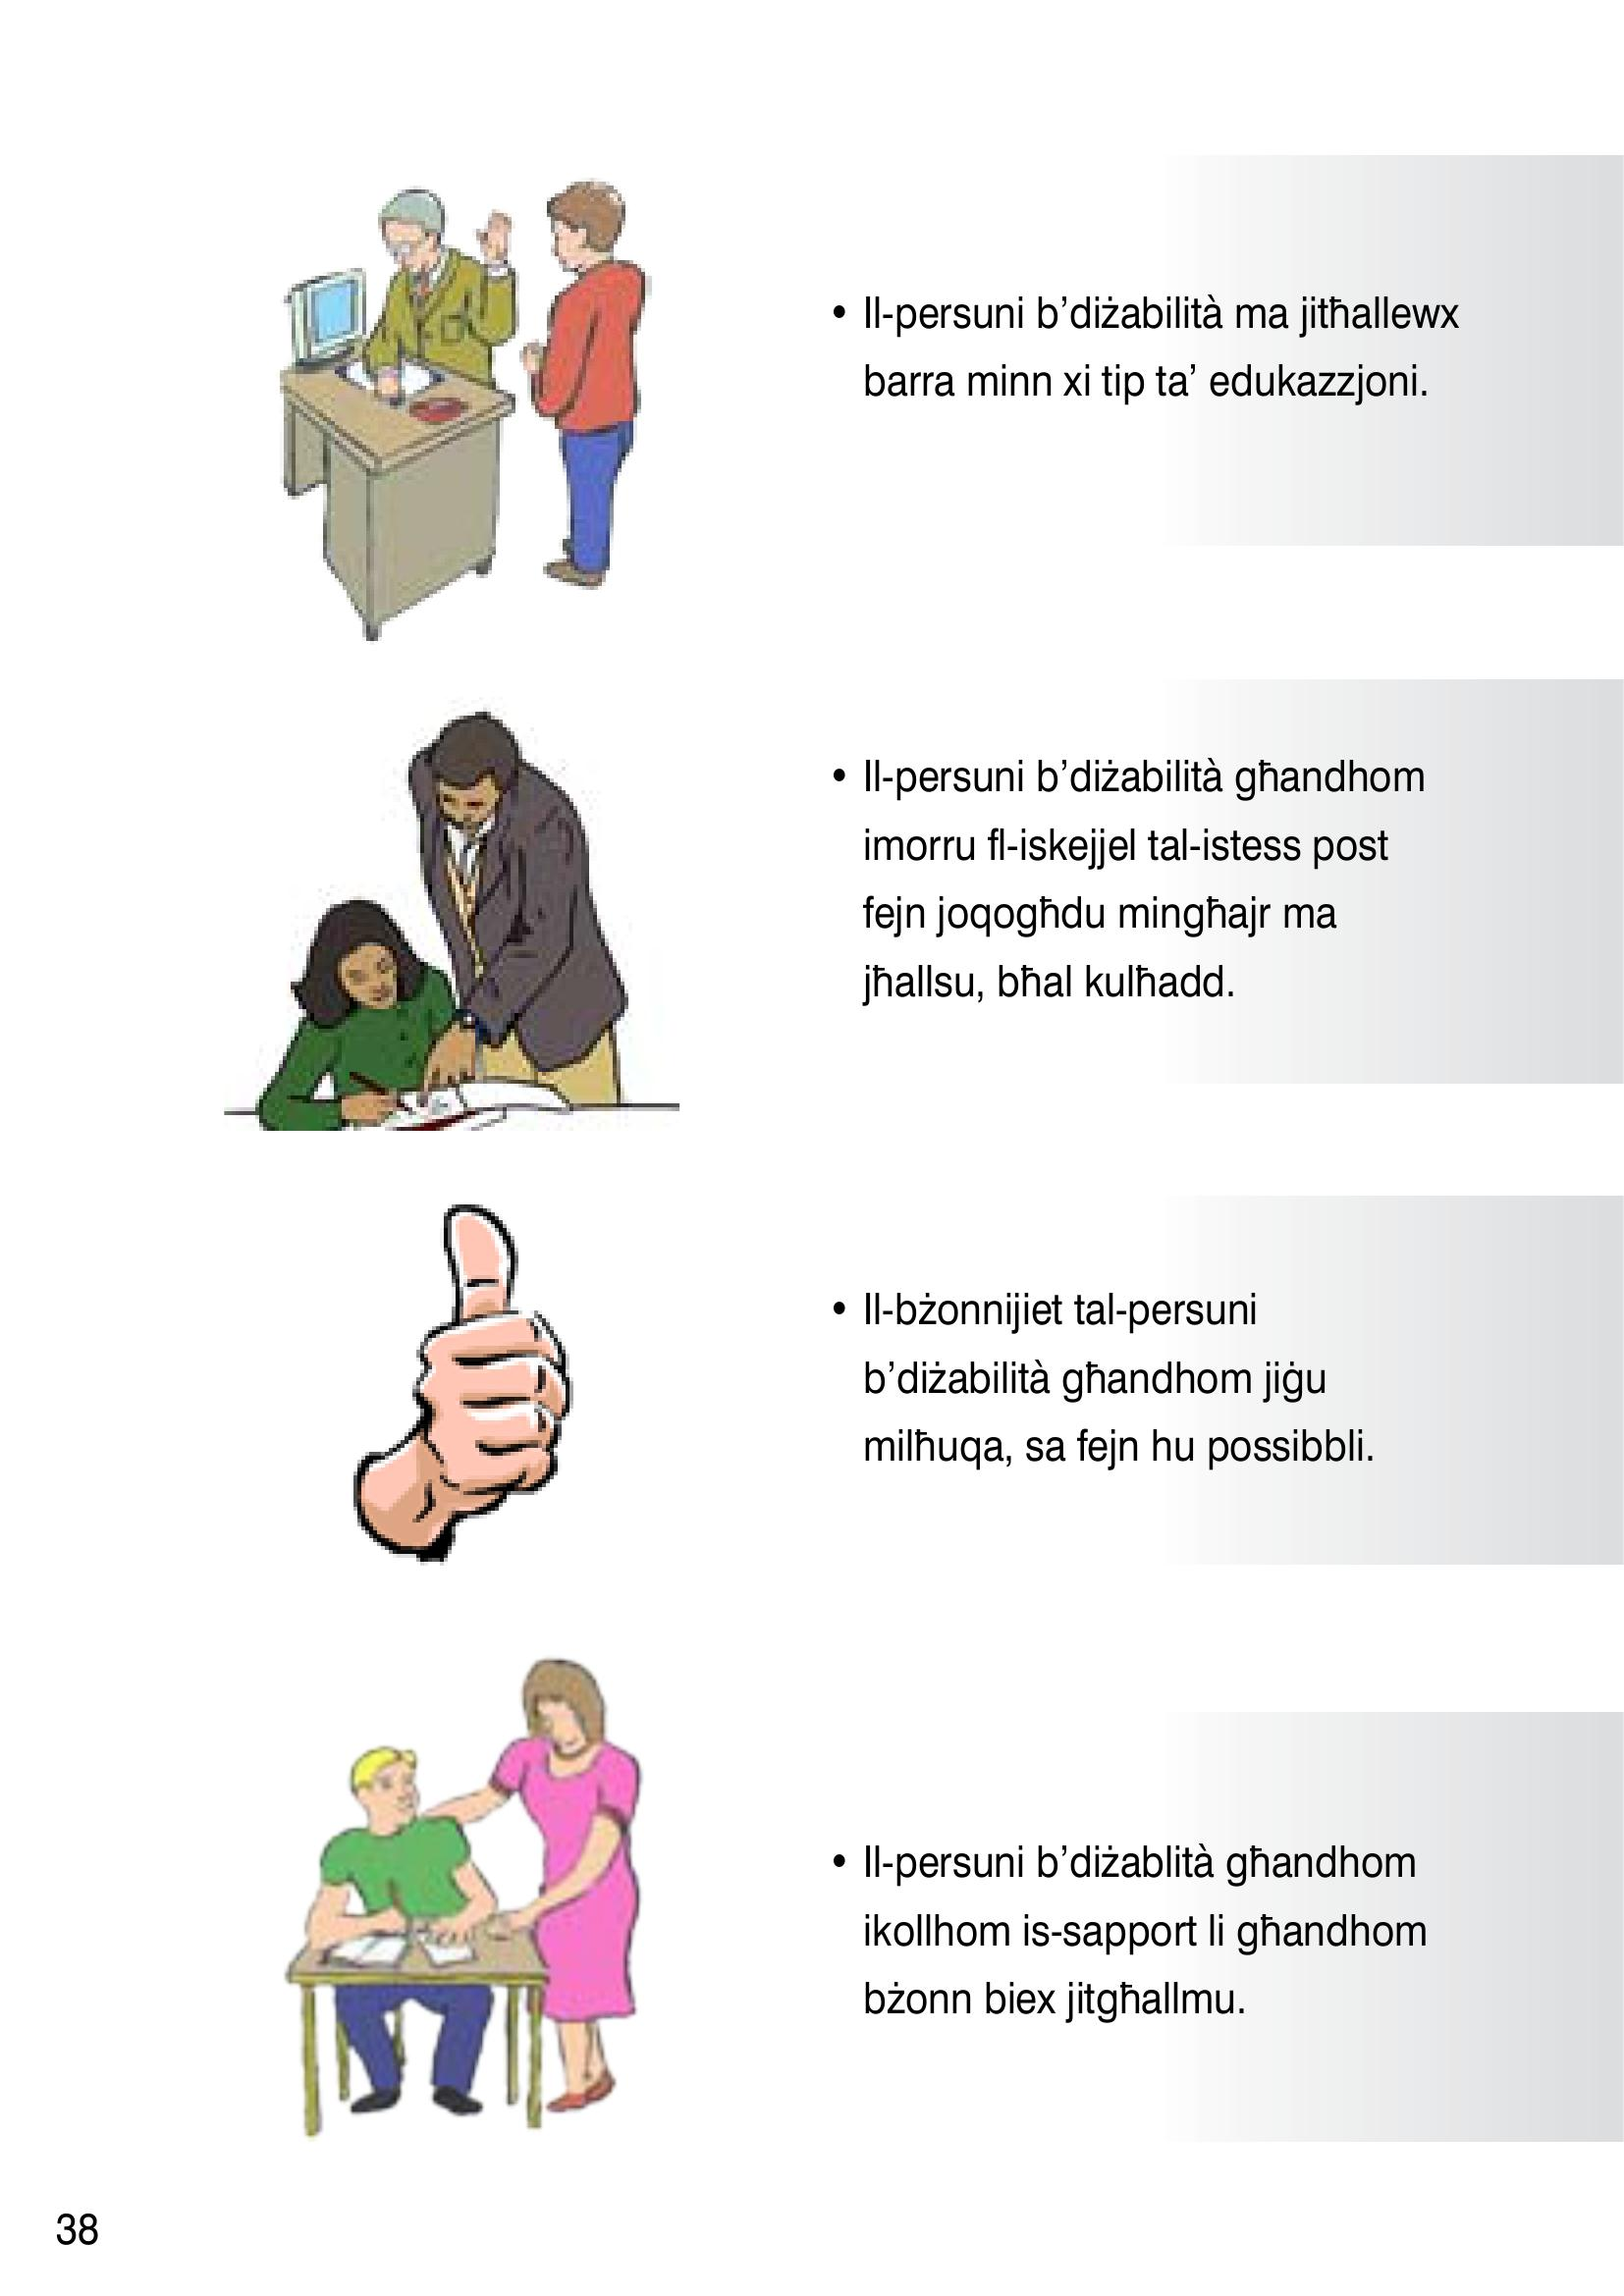text: (777, 241, 1480, 2068)
